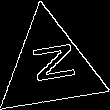N_W: (23, 43, 77, 91)
